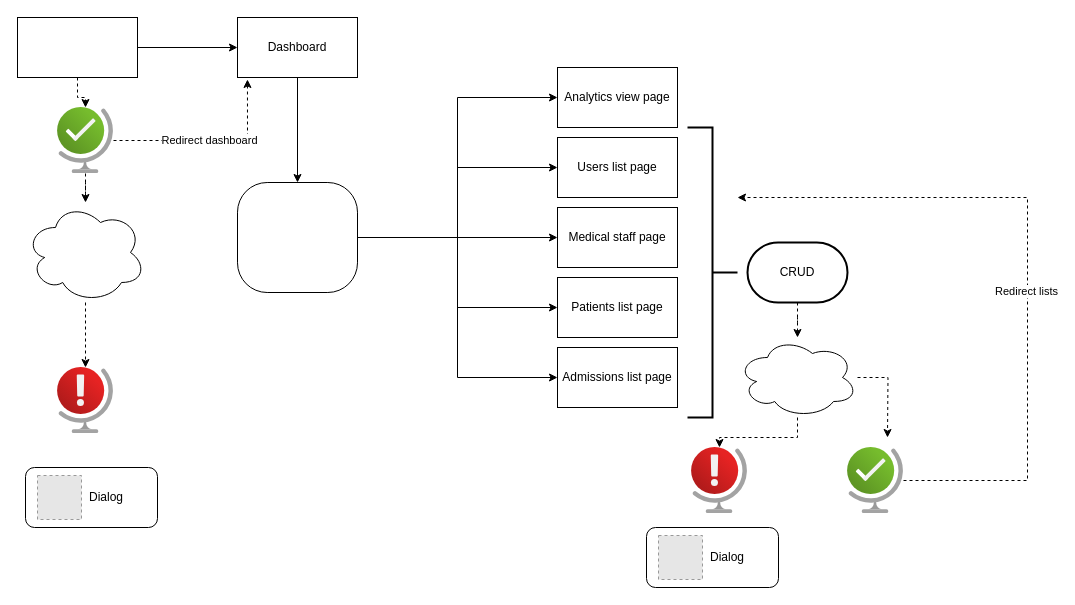
This 1075x605 diagram has some shape labels left out. Grey dashed boxes stand in for pictures. Here are the shapes that lost their labels. From the top down, the box of each, then its label:
(16, 16, 138, 78): Login Page
(24, 202, 146, 302): Username & password
(236, 182, 358, 292): Analytics view Users Medical staff Patiens Admissions
(736, 336, 858, 418): Validations
